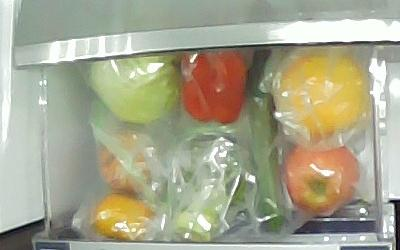apple_vinyl: (285, 142, 360, 213)
broccoli_vinyl: (162, 137, 256, 244)
cucumber_vinyl: (245, 47, 286, 232)
grapefruit_vinyl: (275, 52, 369, 143)
lettuce_vinyl: (89, 51, 182, 123)
paprika_vinyl: (181, 47, 248, 126)
peach_vinyl: (98, 131, 151, 196)
persimmon_vinyl: (93, 194, 154, 242)
